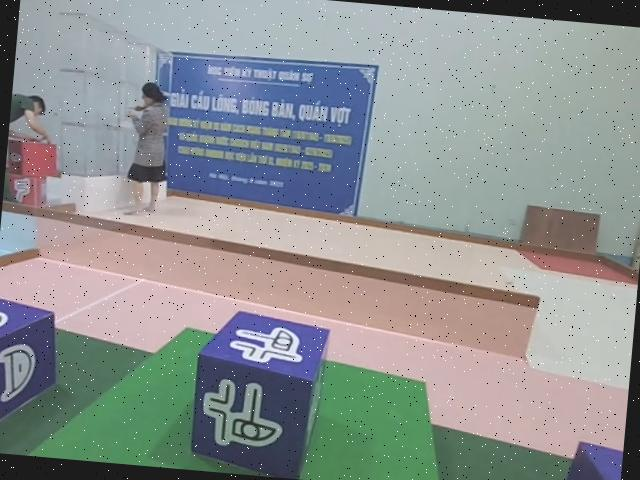R2 Real Blue: (184, 302, 330, 480), (0, 298, 63, 440), (551, 438, 623, 480)
